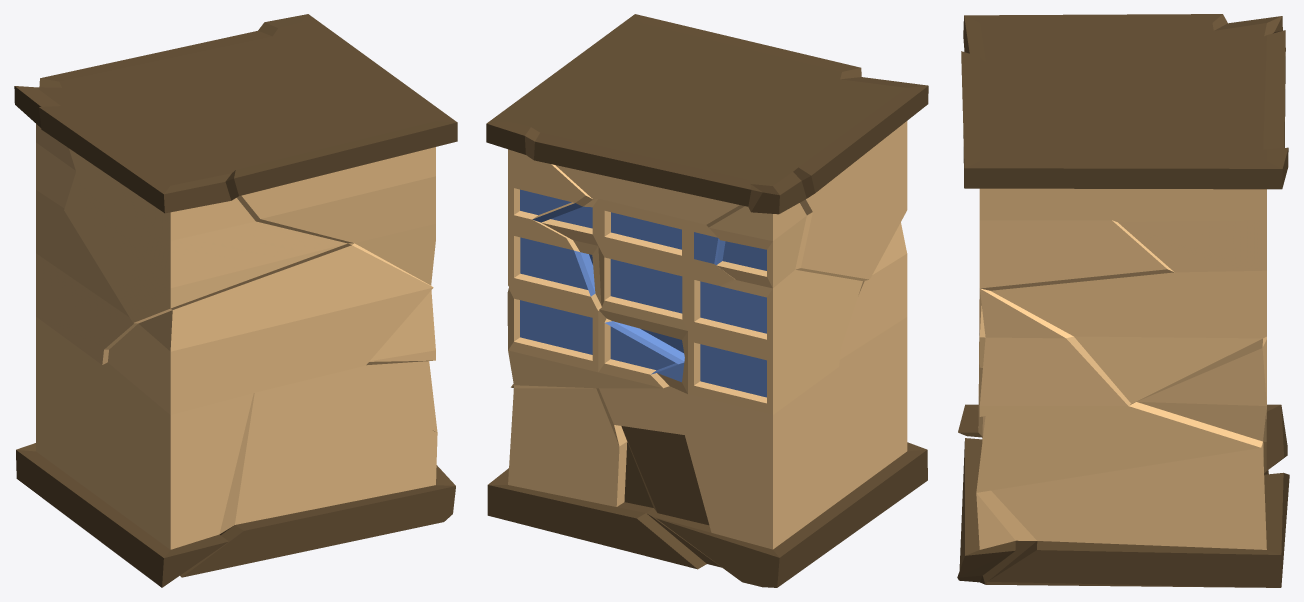
The model's file is T1-Newest.fbx.
The picture shows the model from 3 angles, left to right: view 1: azimuth 30°, elevation 25°; view 2: azimuth 150°, elevation 25°; view 3: azimuth 270°, elevation 25°; orthographic projection. The views are drawn at different scales.
Parts seen in each view (by area): view 1: Cube.002; view 2: Cube.002; view 3: Cube.002.
Boxes of the visible parts, left/top/right/bottom form: Cube.002: left=14, top=14, right=457, bottom=587; Cube.002: left=486, top=14, right=928, bottom=587; Cube.002: left=957, top=14, right=1289, bottom=587.
Size of the model in its own units: 697 by 886 by 629.
